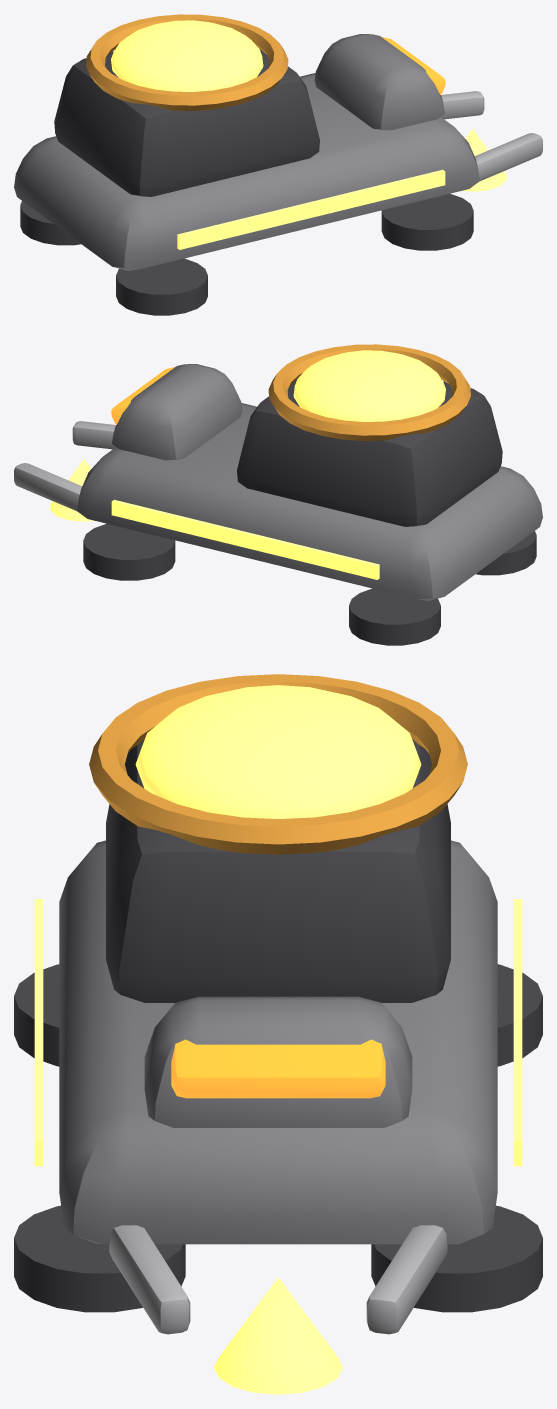
File: rob_harvester.glb
3 renders of one model, top to bottom at view 1: azimuth 30°, elevation 25°; view 2: azimuth 150°, elevation 25°; view 3: azimuth 270°, elevation 25°, orthographic. The views are drawn at different scales.
Visible parts, largest first — view 1: rob_harvester; view 2: rob_harvester; view 3: rob_harvester.
Boxes of the visible parts, box(x1,y1,x2,y2) form: rob_harvester: box(14, 14, 542, 315); rob_harvester: box(14, 344, 542, 645); rob_harvester: box(14, 674, 542, 1394).
Bounding box in the file's own units: 1.35 × 0.611 × 0.74.
